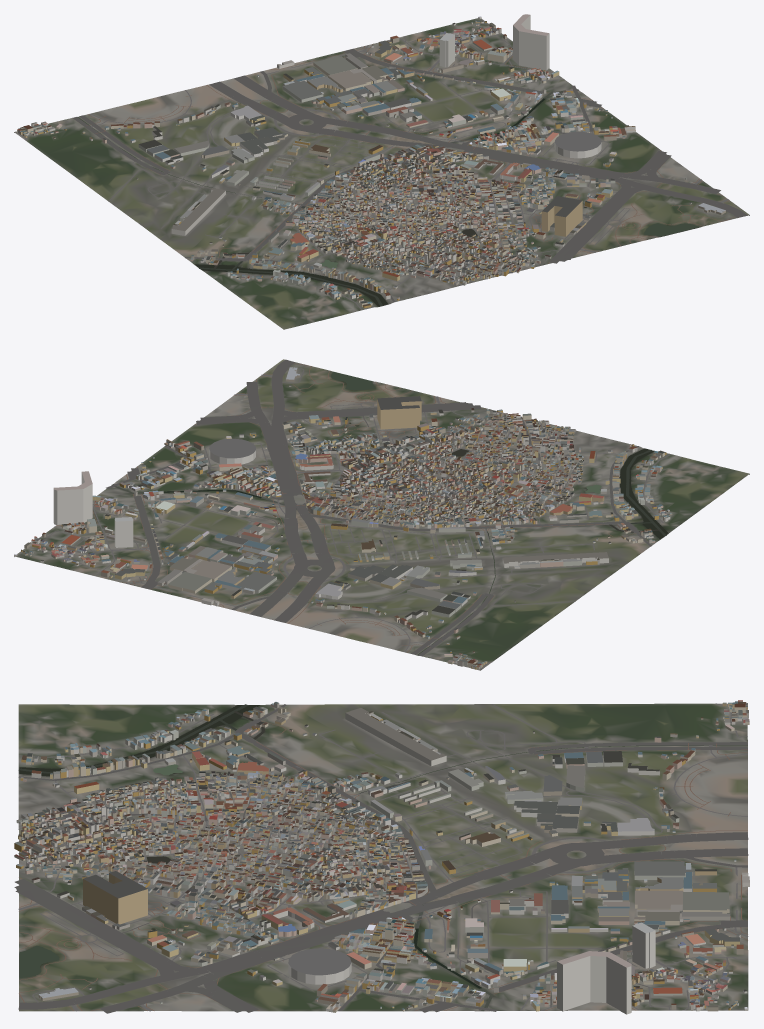
The picture shows the model from 3 angles, top to bottom: view 1: azimuth 30°, elevation 25°; view 2: azimuth 150°, elevation 25°; view 3: azimuth 270°, elevation 25°; orthographic projection. The views are drawn at different scales.
Visible parts, largest first — view 1: ground, buildings, roads, water; view 2: ground, buildings, roads, water; view 3: ground, buildings, roads, water.
Part boxes in pixels (x1,y1,x2,y2): ground: [14, 18, 749, 329]; buildings: [17, 14, 725, 308]; roads: [15, 23, 747, 310]; water: [78, 89, 699, 306]; ground: [14, 359, 749, 670]; buildings: [14, 367, 672, 669]; roads: [22, 359, 671, 670]; water: [112, 371, 668, 655]; ground: [18, 703, 748, 1011]; buildings: [14, 700, 749, 1014]; roads: [14, 703, 748, 1013]; water: [18, 704, 747, 1011].
Size of the model in its own units: 1418 by 106 by 1415.
